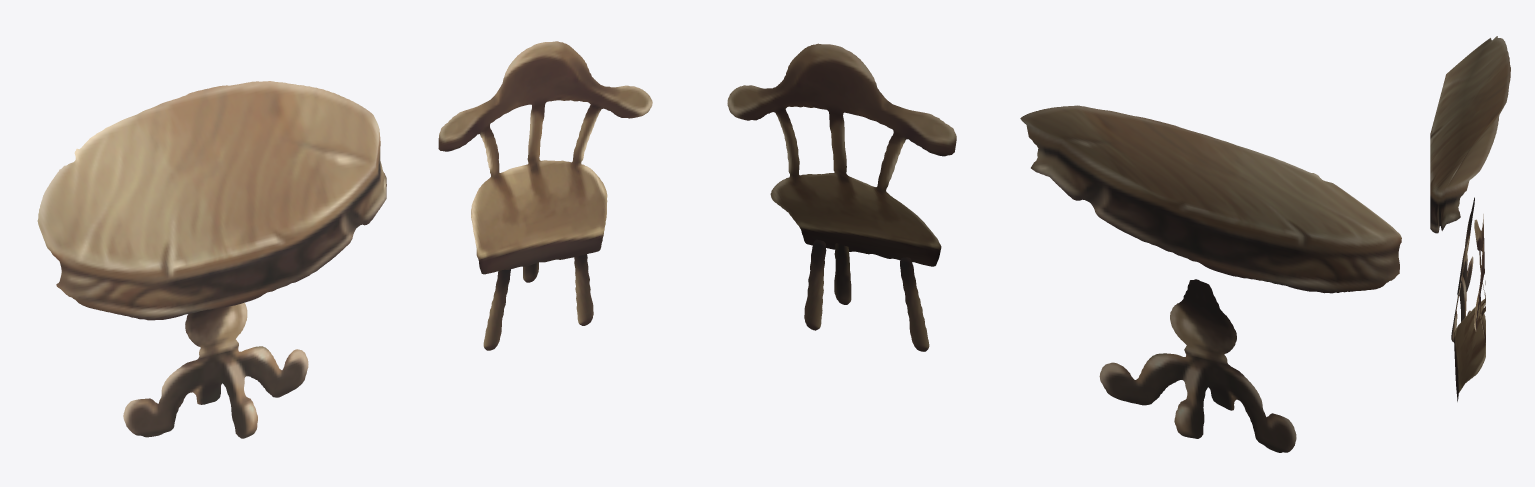
File: Table and Chair.FBX
3 views of the same model, side by side, from view 1: azimuth 30°, elevation 25°; view 2: azimuth 150°, elevation 25°; view 3: azimuth 270°, elevation 25° (orthographic). The views are drawn at different scales.
Parts seen in each view (by area): view 1: Table, Chair; view 2: Table, Chair; view 3: Table, Chair.
Boxes of the visible parts, x1,y1,x2,y2 form: Table: [37, 81, 386, 438]; Chair: [438, 41, 652, 350]; Table: [1020, 105, 1401, 452]; Chair: [727, 43, 956, 351]; Table: [1430, 36, 1510, 342]; Chair: [1454, 214, 1485, 401].
Size of the model in its own units: 356 by 52.08 by 193.
1 material, 1 textured.
